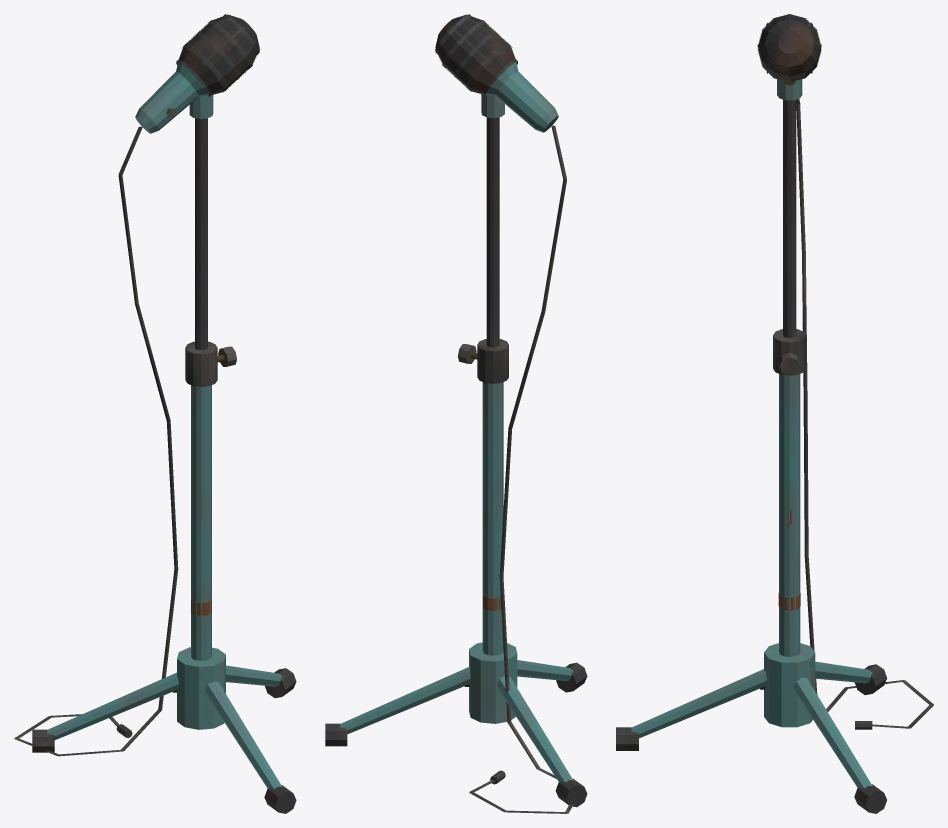
File: Q25_mic_and_stand.glb
3 views of the same model, side by side, from view 1: azimuth 30°, elevation 25°; view 2: azimuth 150°, elevation 25°; view 3: azimuth 270°, elevation 25° (orthographic). The views are drawn at different scales.
Parts seen in each view (by area): view 1: Tripod hub; view 2: Tripod hub; view 3: Tripod hub.
Part boxes in pixels (x1,y1,x2,y2): Tripod hub: (14, 14, 296, 813); Tripod hub: (325, 14, 587, 813); Tripod hub: (616, 14, 933, 813).
Bounding box in the file's own units: 0.5693 × 1.5 × 0.5777.
Materials: 6 (6 with a texture image).
